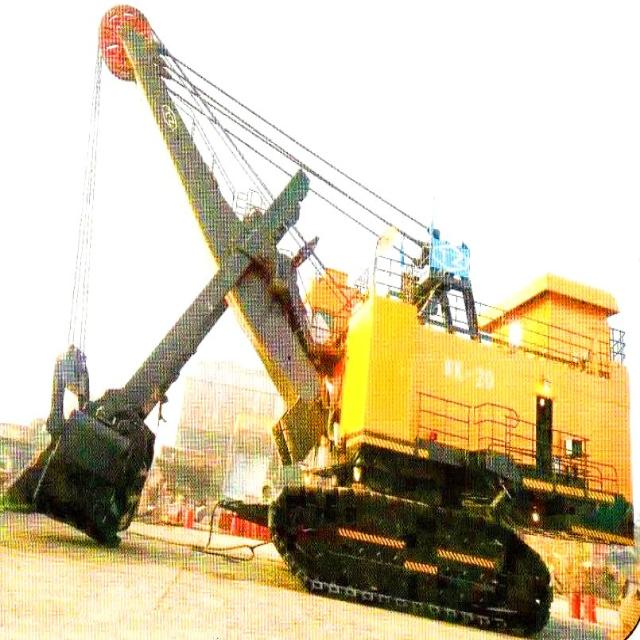excavator: (51, 0, 640, 639)
